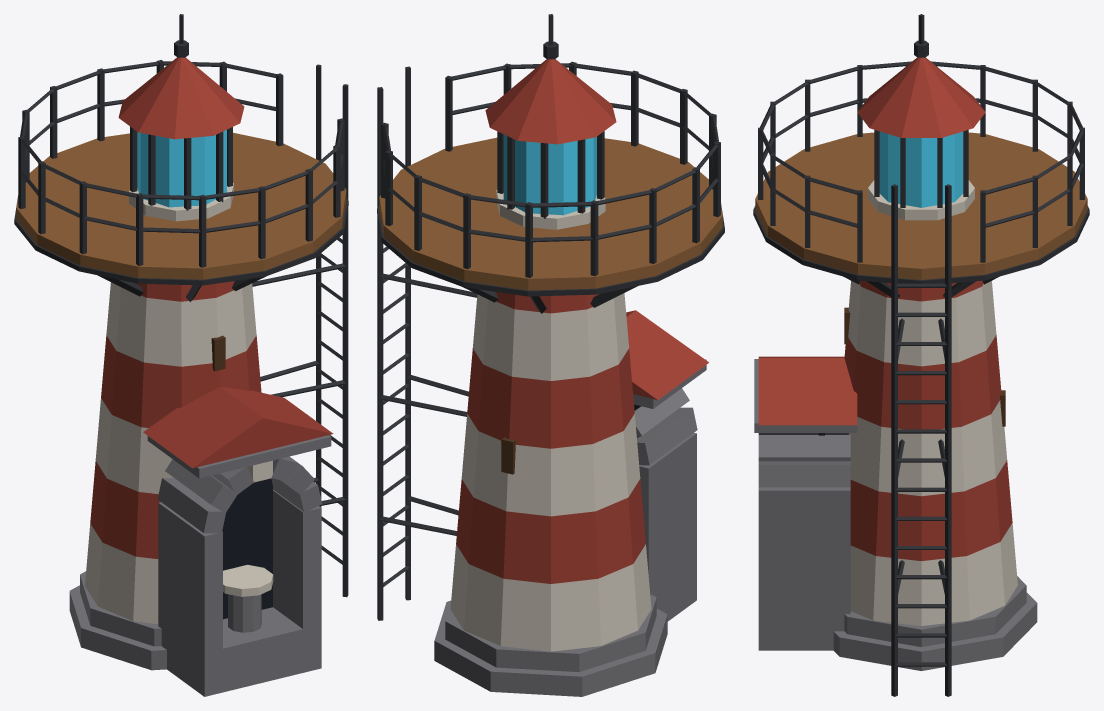
The model's file is Core.obj.
The picture shows the model from 3 angles, left to right: view 1: azimuth 30°, elevation 25°; view 2: azimuth 150°, elevation 25°; view 3: azimuth 270°, elevation 25°; orthographic projection. The views are drawn at different scales.
Parts seen in each view (by area): view 1: Core; view 2: Core; view 3: Core.
Boxes of the visible parts, x1,y1,x2,y2 form: Core: (14, 14, 348, 696); Core: (377, 14, 724, 696); Core: (753, 14, 1089, 696).
Bounding box in the file's own units: 3.22 × 6.25 × 3.14.
